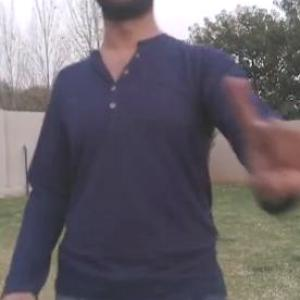takeoff-hand: (204, 74, 300, 223)
